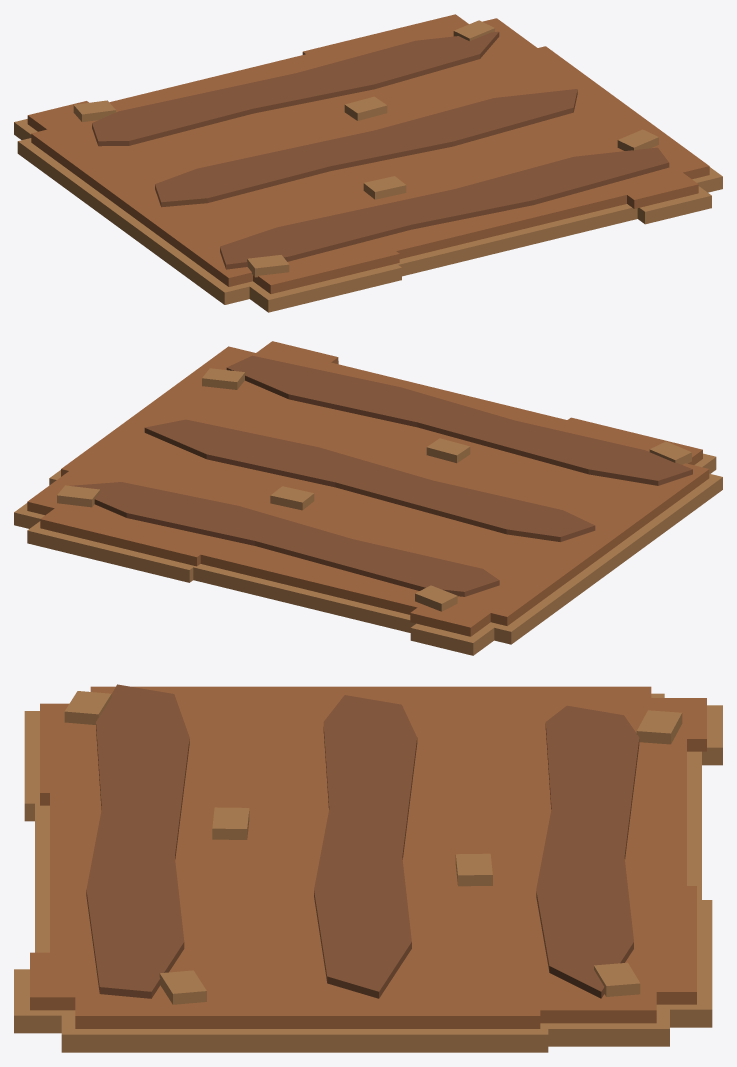
File: plot-empty.glb
3 views of the same model, one above another, from view 1: azimuth 30°, elevation 25°; view 2: azimuth 150°, elevation 25°; view 3: azimuth 270°, elevation 25° (orthographic). The views are drawn at different scales.
Parts seen in each view (by area): view 1: Earth clod; view 2: Earth clod; view 3: Earth clod.
Boxes of the visible parts, x1,y1,x2,y2 form: Earth clod: (14, 14, 722, 312); Earth clod: (14, 341, 722, 655); Earth clod: (14, 684, 722, 1052).
Bounding box in the file's own units: 1.77 × 0.1005 × 1.55.
